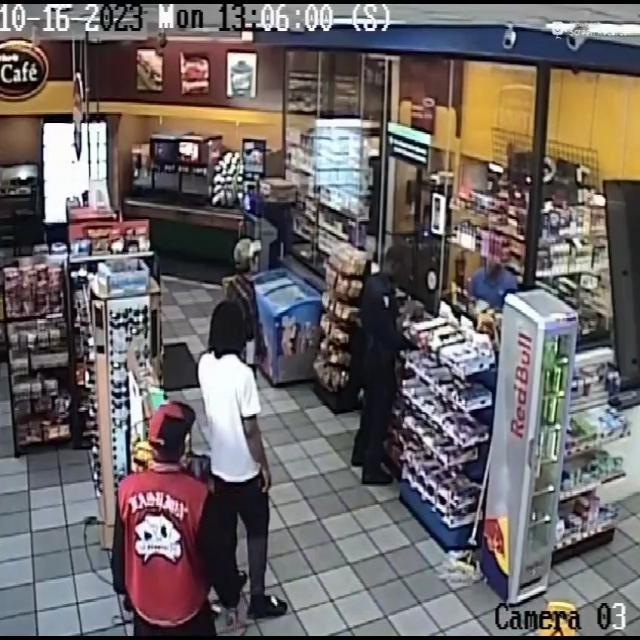Normal: (189, 300, 295, 623), (103, 403, 246, 640), (349, 221, 423, 490), (207, 229, 288, 342)
